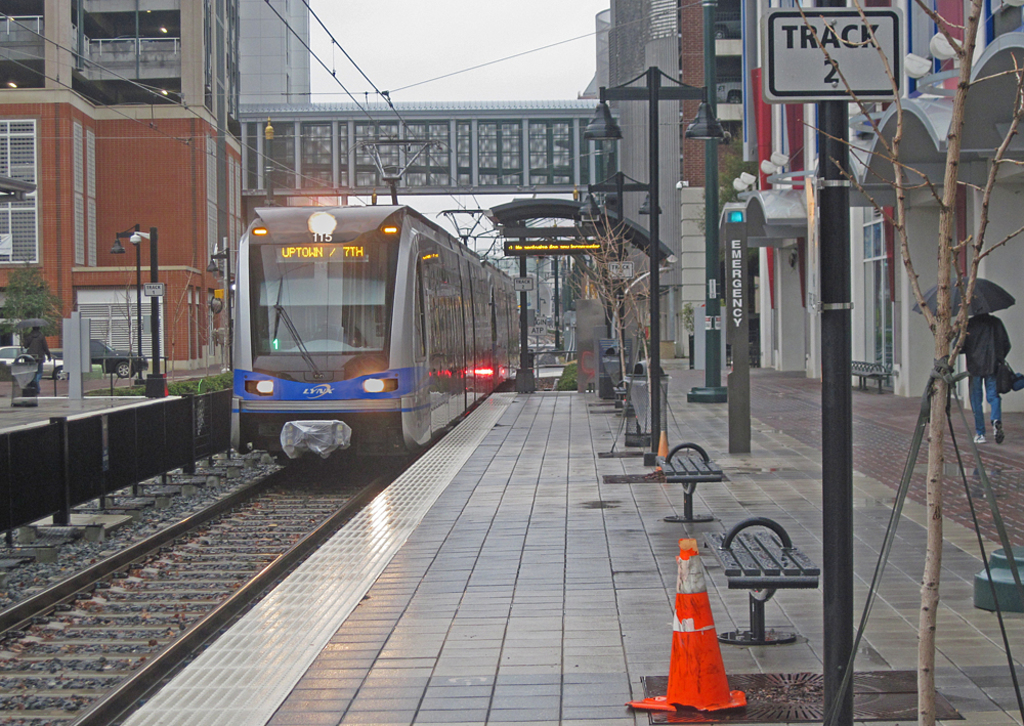Wheel: (118, 361, 127, 380), (52, 368, 66, 380)
